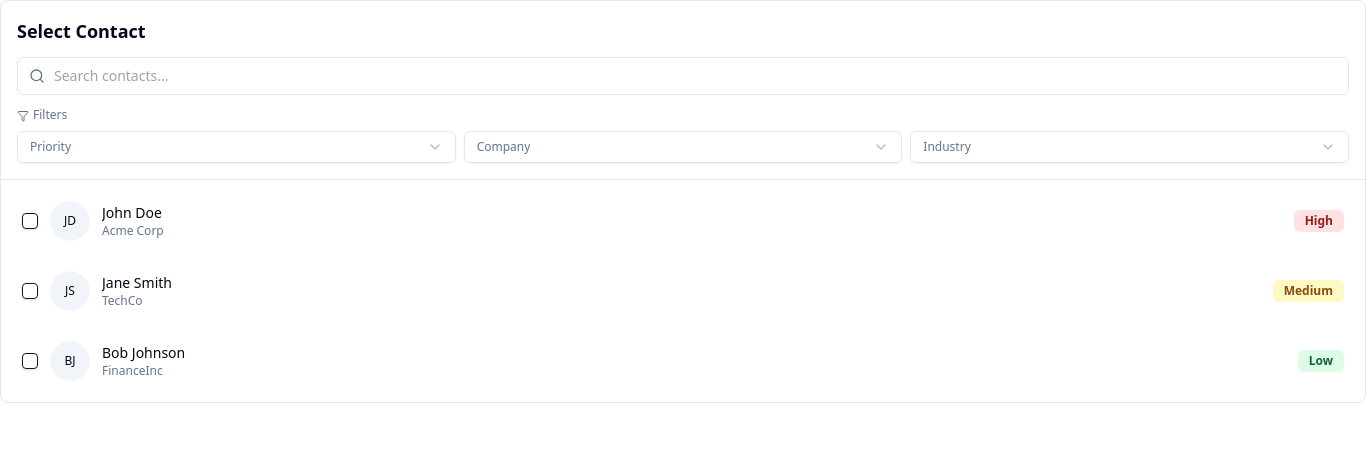
it: ContactSidebar › Multi-select for Campaign Mode › selects contact when checkbox clicked
The image size is (1366, 476).
Click the checkbox named "Select John Doe".
click(30, 221)  # box [22,213,38,229]
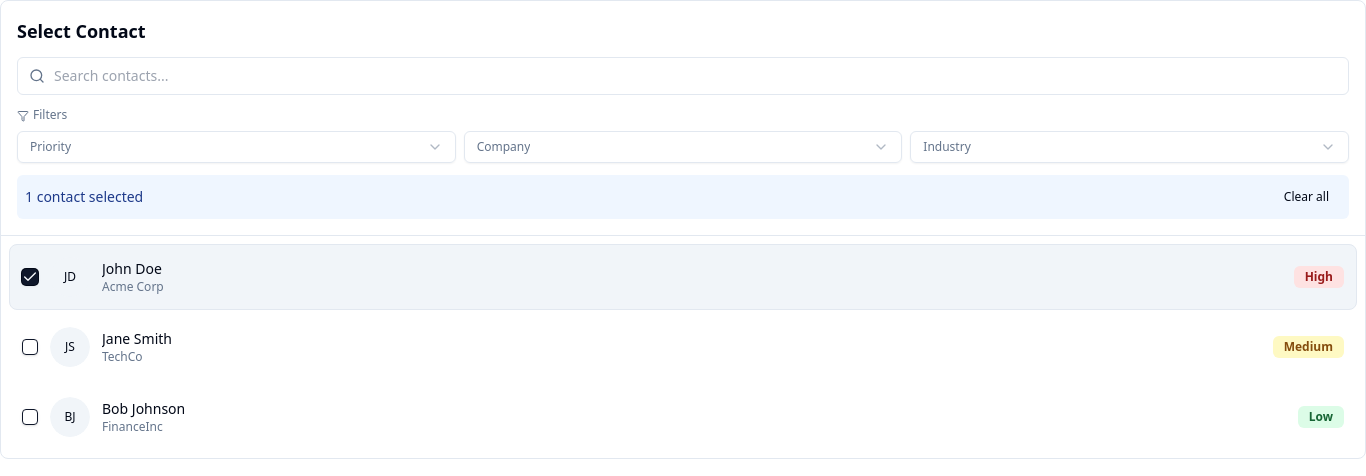
Expected: the checkbox named "Select John Doe" is checked, [22,269,38,285]
Expected: the text "1 contact selected" is shown, [25,187,143,207]
